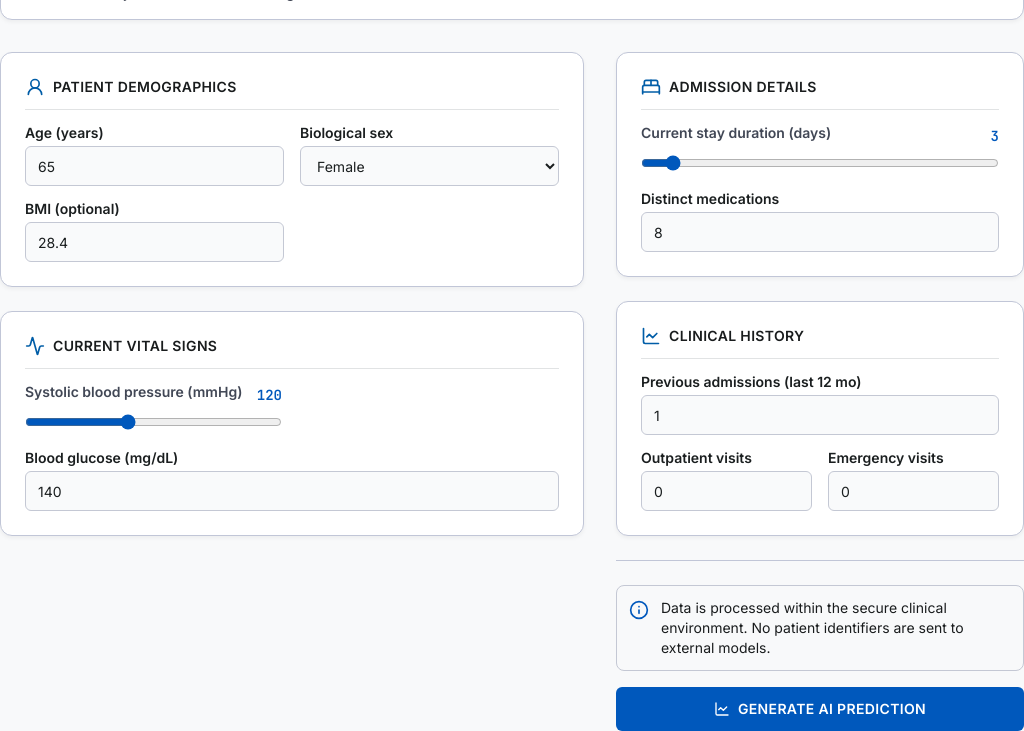
EvaluationPage › submits prediction and navigates to result page
(page scrolled)
Click the button "Generate AI Prediction": {"x": 820, "y": 709} [616,687,1023,730]
(page scrolled)
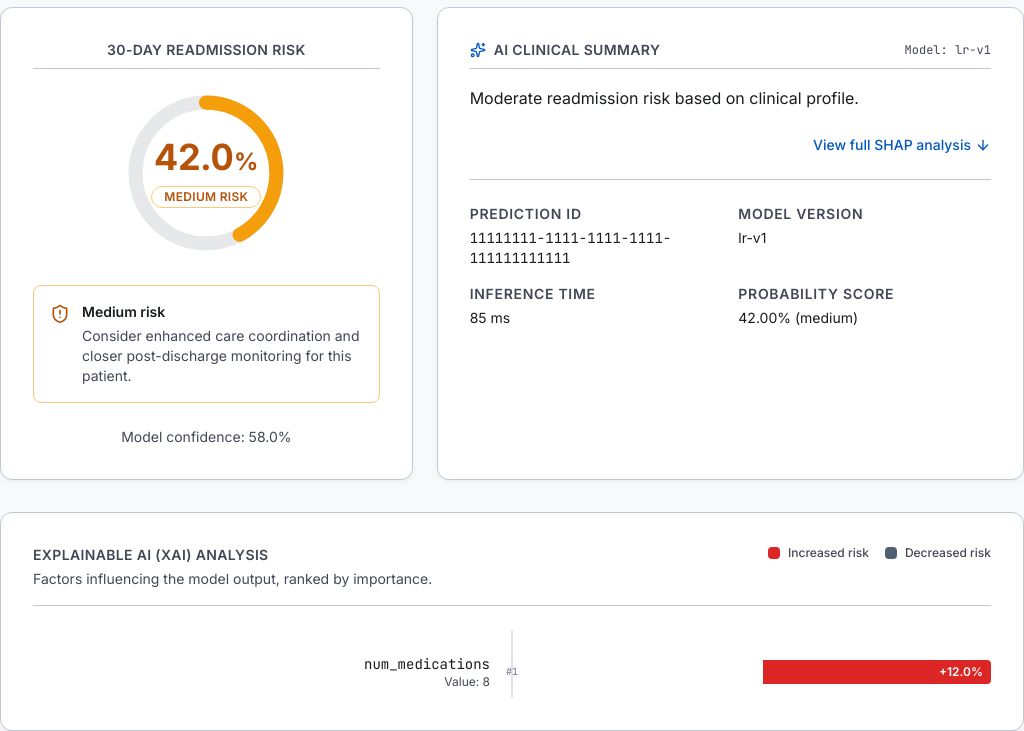
Check: the picture named "readmission risk 42.0 percent" is shown, box [118,85,294,261]
Check: the text "Moderate readmission risk based on clinical profile." is shown, box [470,88,859,108]
